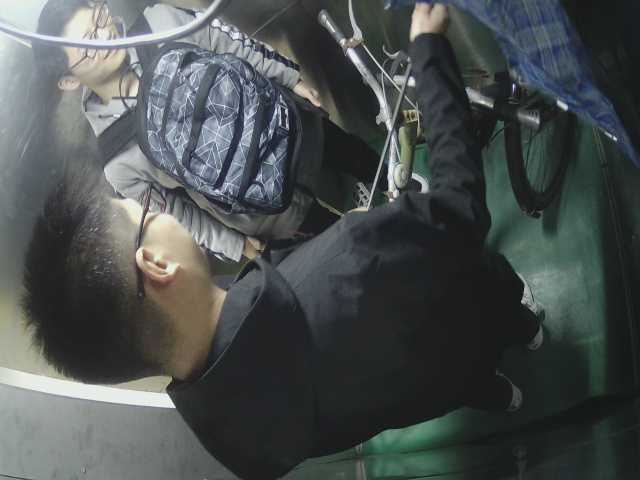bag: (141, 35, 315, 208)
bicycle: (312, 12, 602, 210)
person: (21, 175, 532, 424), (36, 2, 311, 187)
